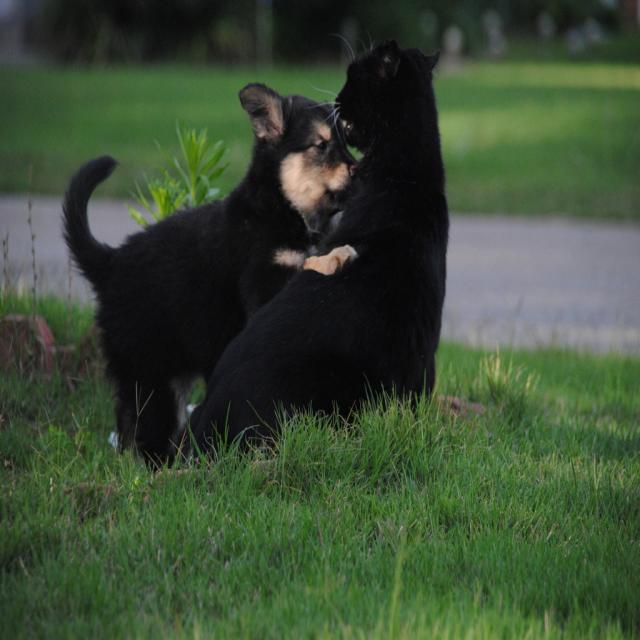Dog: (175, 27, 449, 467), (59, 81, 359, 471)
